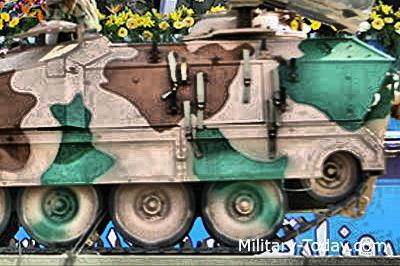tanks: (1, 1, 395, 252)
